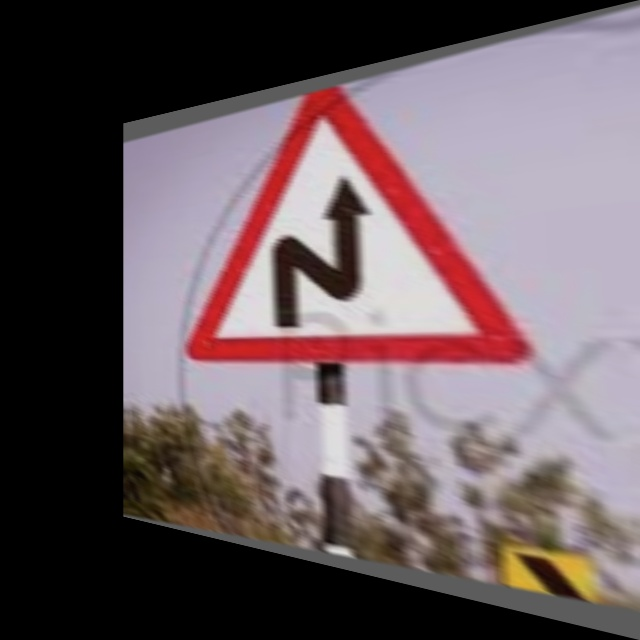Right_Reverse_Bend: (189, 58, 522, 378)
